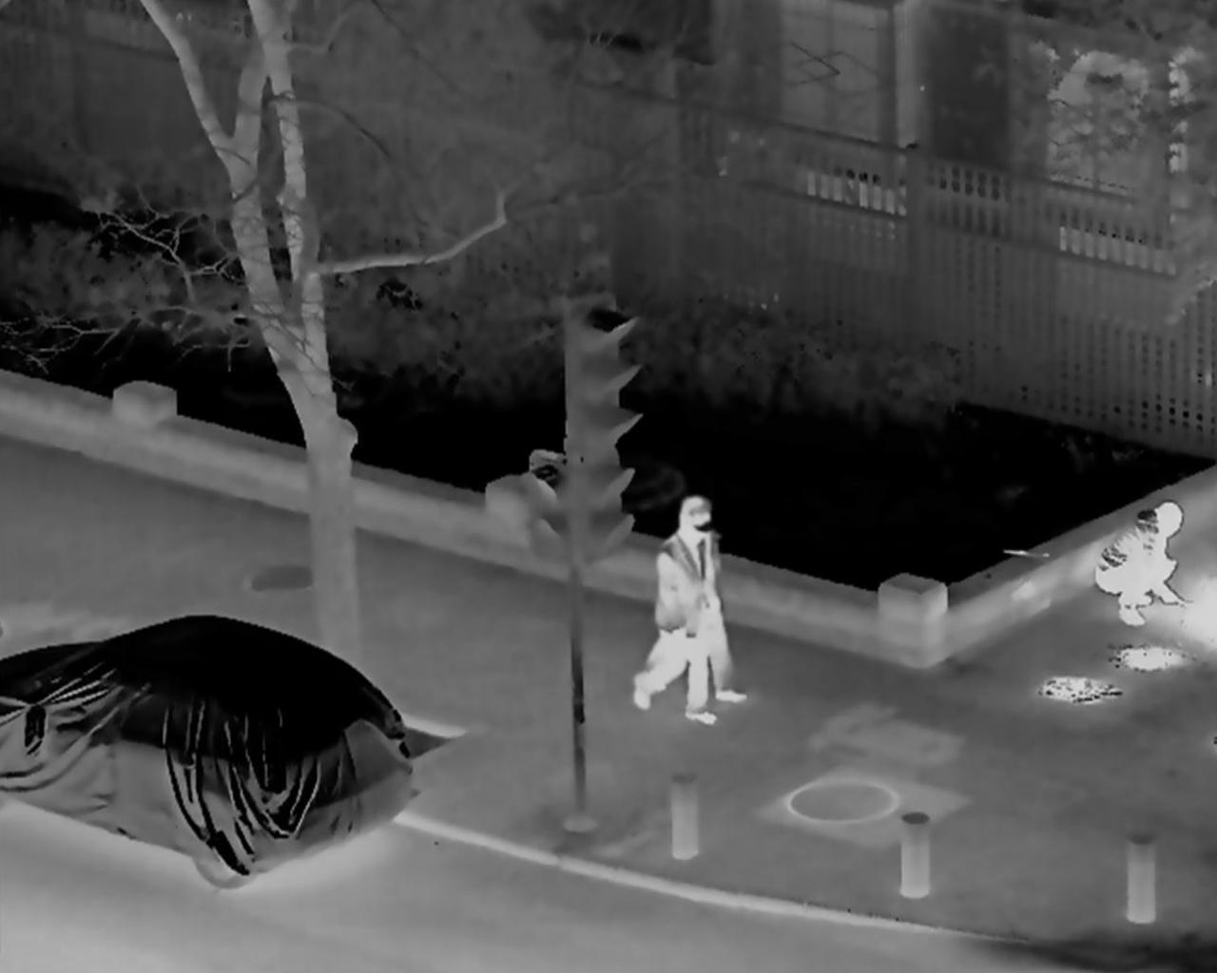person: (656, 502, 746, 706), (630, 509, 715, 724), (1088, 500, 1187, 623)
